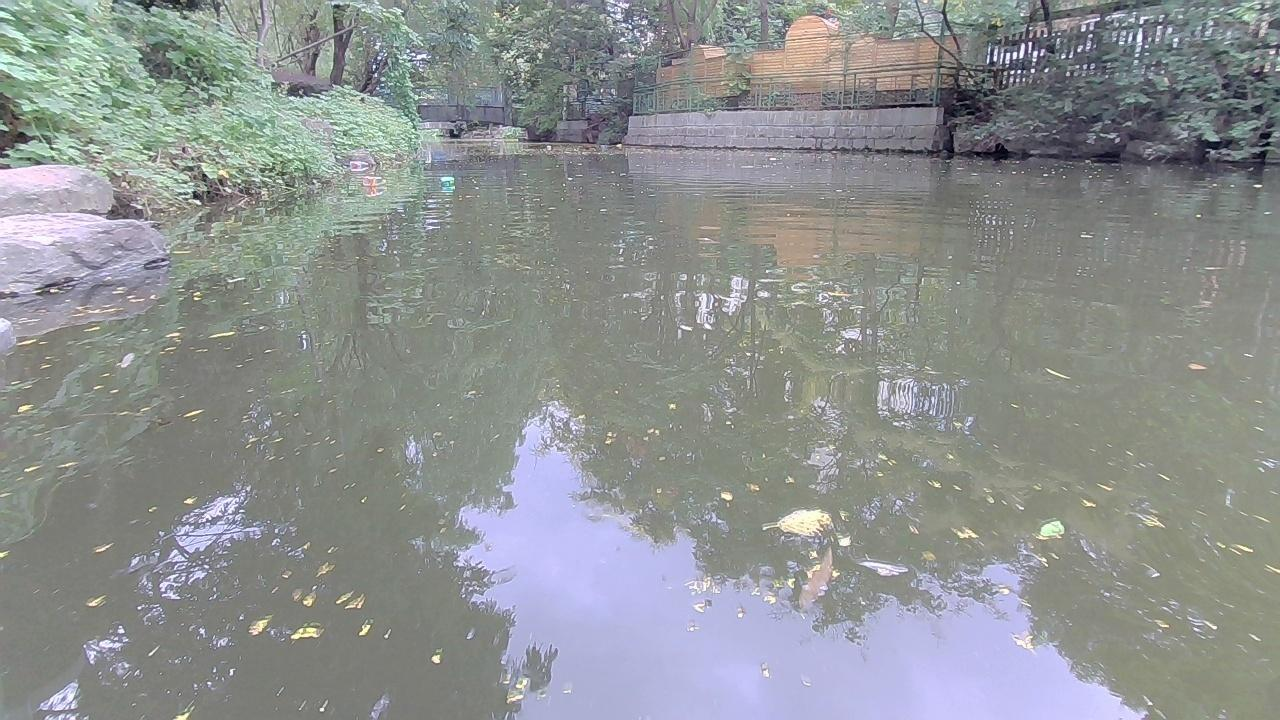bottle: (360, 172, 388, 190), (438, 175, 459, 186), (346, 160, 368, 170), (614, 141, 625, 153), (544, 145, 552, 152)
